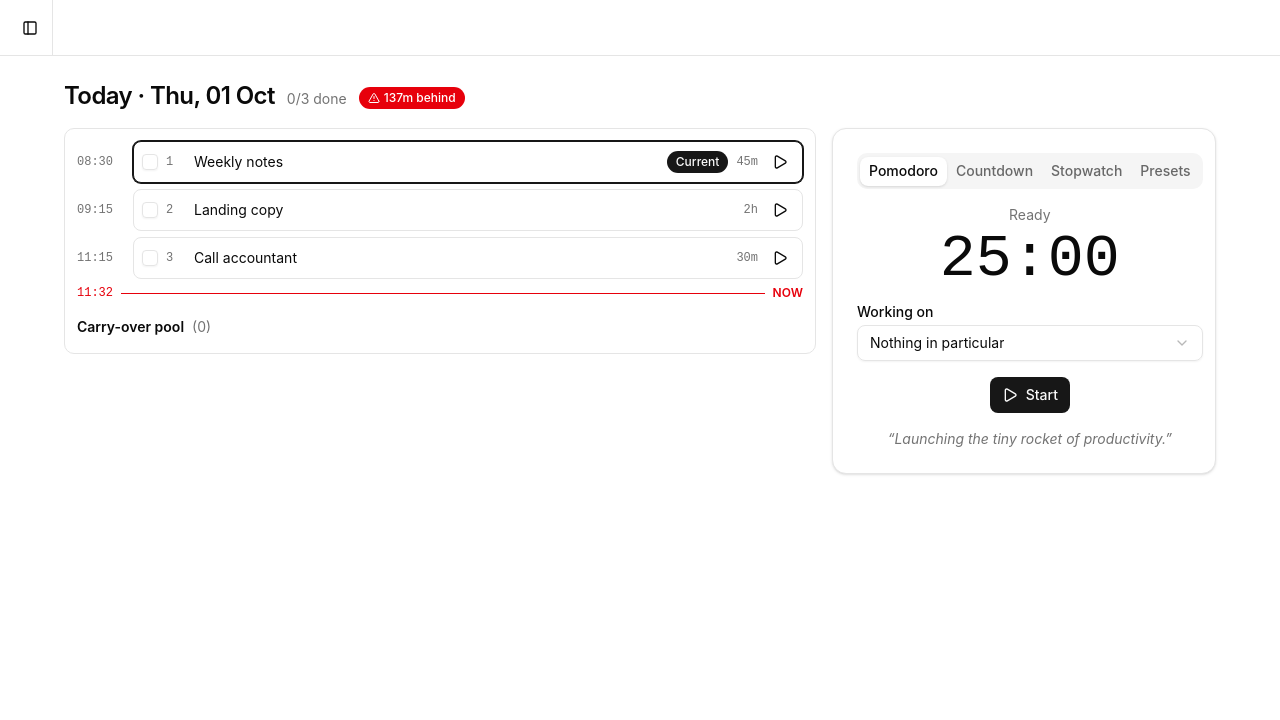
Test case: Today: ticking › soft order: out-of-order tick works and nudges
Click the checkbox named "Mark “Call accountant” done" at point(150, 258), box [142,250,158,266]
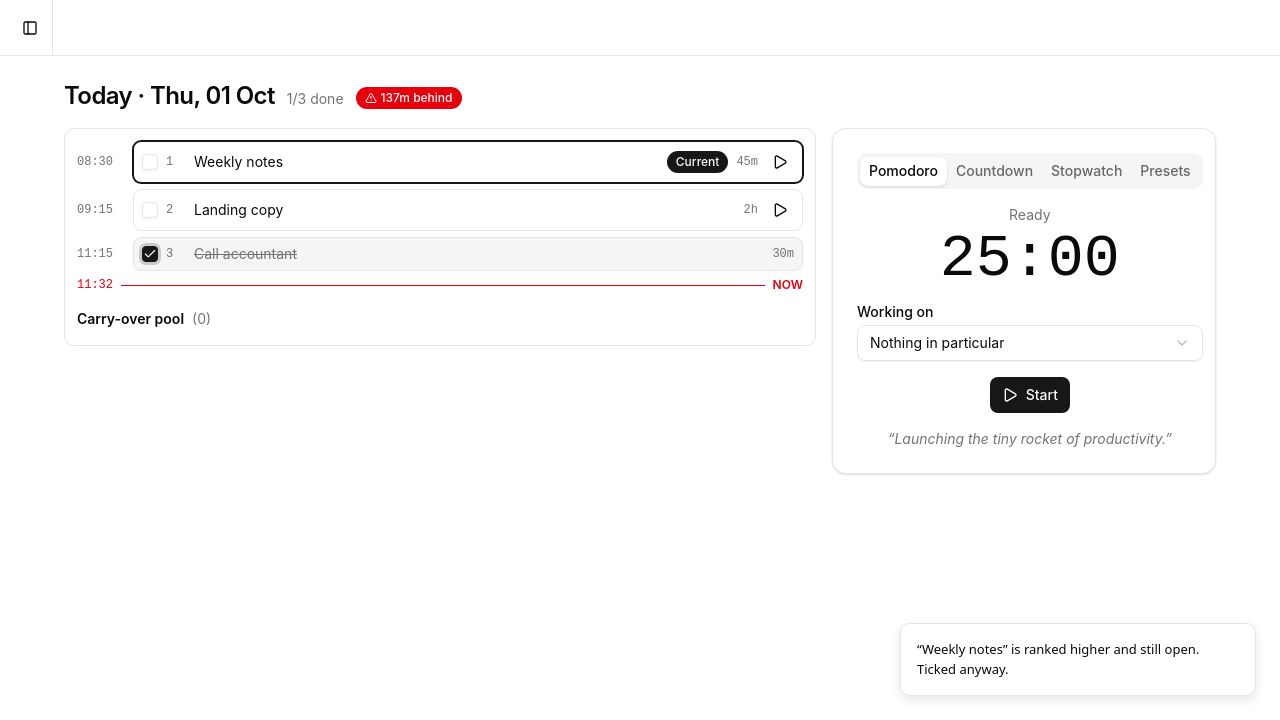
Result: the text "ranked higher and still open" is shown at [917,640,1199,678]
